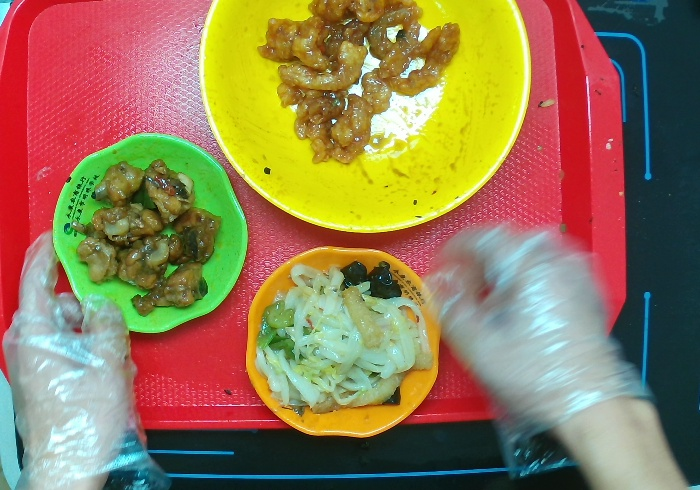YKMZ-Huang_Se_Tang_Wan: (194, 1, 534, 238)
YKMZ-Ju_Se_Ao_Bian_Wan: (242, 242, 446, 442)
YKMZ-Lv_Se_Ao_Bian_Wan: (45, 131, 252, 338)
